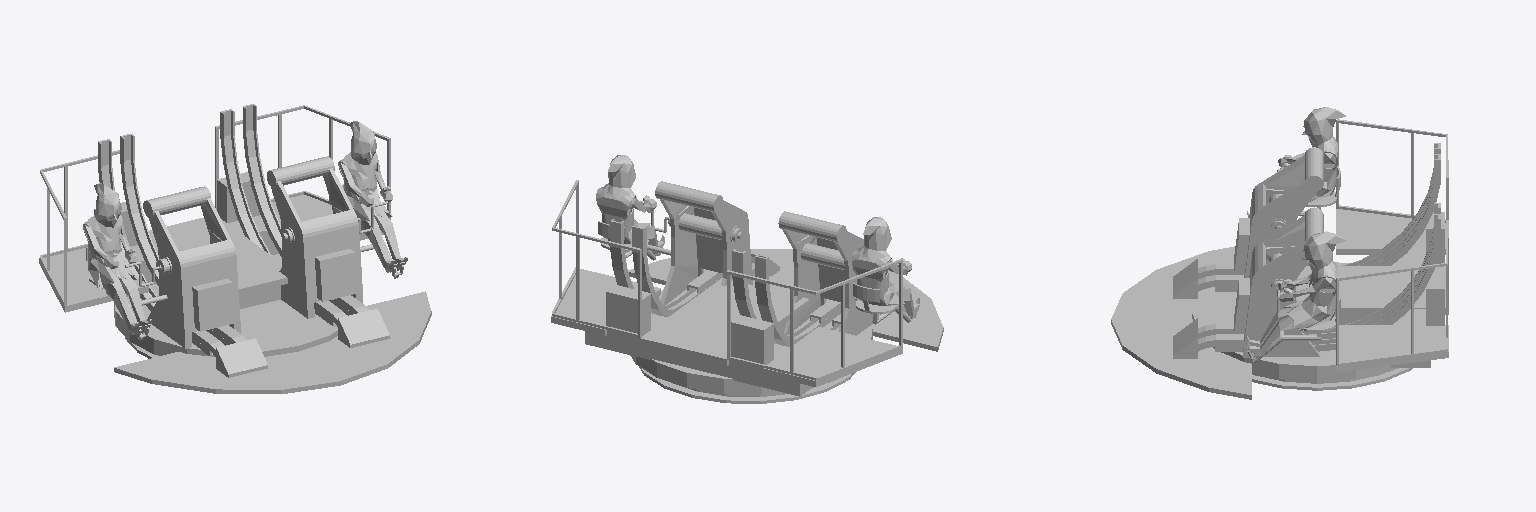
The picture shows the model from 3 angles: view 1: azimuth 30°, elevation 25°; view 2: azimuth 150°, elevation 25°; view 3: azimuth 270°, elevation 25°; orthographic projection.
Visible parts, largest first — view 1: Bofors_XuanZhuan; view 2: Bofors_XuanZhuan; view 3: Bofors_XuanZhuan.
Part boxes in pixels (x1,y1,x2,y2): Bofors_XuanZhuan: (39, 104, 431, 393); Bofors_XuanZhuan: (551, 155, 943, 403); Bofors_XuanZhuan: (1111, 107, 1448, 399).
Bounding box in the file's own units: 3.73 × 1.88 × 3.34.